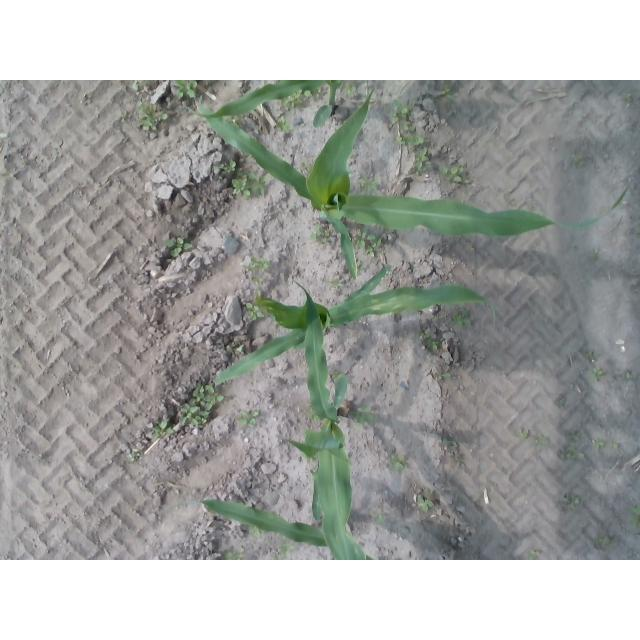Maize: (194, 88, 635, 281), (213, 266, 496, 393), (286, 278, 367, 560), (173, 461, 375, 560), (188, 80, 349, 128)
Weeds: (176, 381, 228, 427), (390, 99, 427, 149), (230, 171, 270, 201), (135, 102, 169, 135), (355, 227, 383, 259), (165, 236, 196, 259), (351, 404, 374, 432), (148, 422, 176, 444), (555, 490, 582, 512), (173, 80, 199, 102), (439, 165, 467, 183), (236, 407, 261, 426), (387, 453, 409, 474), (450, 307, 473, 327), (280, 89, 303, 109), (415, 492, 437, 512), (310, 223, 330, 245), (358, 174, 378, 195), (242, 256, 270, 271), (412, 147, 428, 172), (244, 303, 265, 322), (213, 158, 237, 174), (558, 445, 582, 460), (420, 334, 440, 351), (436, 86, 452, 107), (533, 433, 551, 451), (587, 366, 606, 383), (224, 343, 245, 358), (595, 535, 615, 550), (628, 505, 640, 528), (322, 277, 344, 289), (450, 455, 467, 470), (128, 450, 144, 465), (443, 438, 460, 452), (584, 348, 601, 362), (79, 92, 93, 109), (280, 540, 295, 555), (249, 525, 264, 540), (436, 368, 453, 381), (221, 552, 245, 561), (306, 403, 318, 421), (592, 437, 606, 452), (343, 81, 358, 95), (372, 511, 388, 524), (566, 432, 583, 444), (554, 395, 567, 410), (572, 152, 584, 168), (275, 121, 291, 132), (518, 426, 530, 439), (622, 93, 634, 106), (119, 111, 130, 125), (131, 81, 142, 94), (528, 549, 540, 560), (590, 248, 600, 261), (250, 276, 262, 286), (612, 441, 622, 451), (299, 163, 309, 173), (332, 371, 341, 382), (234, 119, 245, 128), (304, 90, 313, 101), (623, 372, 633, 381), (510, 197, 518, 208), (315, 88, 321, 101), (468, 244, 477, 252), (273, 554, 284, 560), (0, 132, 8, 140), (356, 263, 365, 270), (2, 172, 11, 179), (635, 225, 640, 234), (131, 413, 138, 419), (243, 153, 252, 157)
